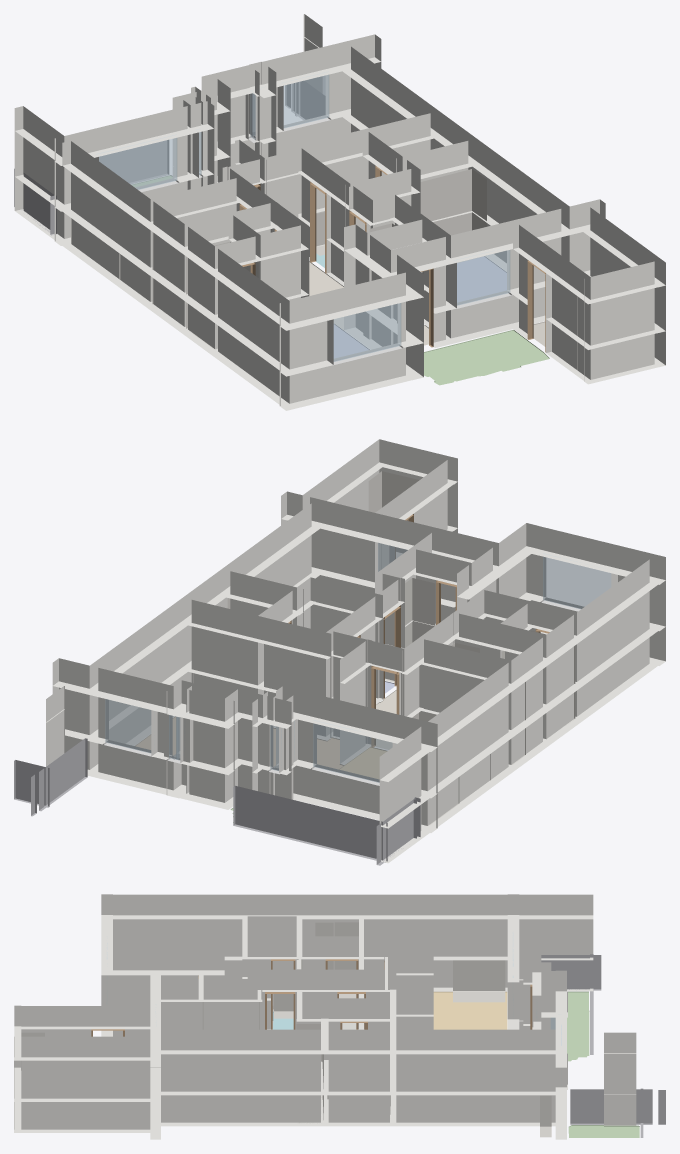
3 views of the same model, one above another, from view 1: azimuth 30°, elevation 25°; view 2: azimuth 150°, elevation 25°; view 3: azimuth 270°, elevation 25° (orthographic). The views are drawn at different scales.
Visible parts, largest first — view 1: walls, railings, floor_14_Outdoor, furniture_3_closet, window_1, window_2, window_3, window_14, floor_7_Bed_Room, floor_4_Entry, door_8, door_5 (+1 smaller); view 2: walls, railings, window_2, window_1, window_14, furniture_5_closet, furniture_6_closet, floor_0_Living_Room, floor_1_Kitchen; view 3: walls, railings, floor_1_Kitchen, furniture_8_appliance, floor_13_Outdoor, floor_12_Outdoor, furniture_0_closet, furniture_7_appliance, furniture_17_sink.
Part boxes in pixels (bbox=[...]): walls: bbox=[14, 14, 665, 410]; railings: bbox=[14, 76, 325, 235]; floor_14_Outdoor: bbox=[424, 330, 549, 385]; furniture_3_closet: bbox=[420, 169, 486, 262]; window_1: bbox=[333, 303, 401, 361]; window_2: bbox=[96, 134, 177, 189]; window_3: bbox=[454, 250, 510, 305]; window_14: bbox=[280, 71, 329, 128]; floor_7_Bed_Room: bbox=[457, 256, 506, 302]; floor_4_Entry: bbox=[309, 261, 343, 329]; door_8: bbox=[310, 181, 326, 273]; door_5: bbox=[527, 260, 545, 352]; walls: bbox=[46, 439, 665, 863]; railings: bbox=[14, 738, 420, 865]; window_2: bbox=[313, 720, 392, 782]; window_1: bbox=[543, 553, 611, 609]; window_14: bbox=[105, 699, 151, 753]; furniture_5_closet: bbox=[385, 578, 435, 681]; furniture_6_closet: bbox=[368, 471, 419, 558]; floor_0_Living_Room: bbox=[135, 716, 343, 769]; floor_1_Kitchen: bbox=[339, 747, 386, 778]; walls: bbox=[14, 894, 636, 1139]; railings: bbox=[541, 954, 665, 1137]; floor_1_Kitchen: bbox=[433, 991, 507, 1029]; furniture_8_appliance: bbox=[453, 960, 505, 1002]; floor_13_Outdoor: bbox=[567, 991, 589, 1061]; floor_12_Outdoor: bbox=[568, 1125, 639, 1137]; furniture_0_closet: bbox=[334, 922, 358, 998]; furniture_7_appliance: bbox=[540, 1095, 551, 1137]; furniture_17_sink: bbox=[274, 994, 293, 1018].
Size of the model in its own units: 9.52 by 2.72 by 17.18.
